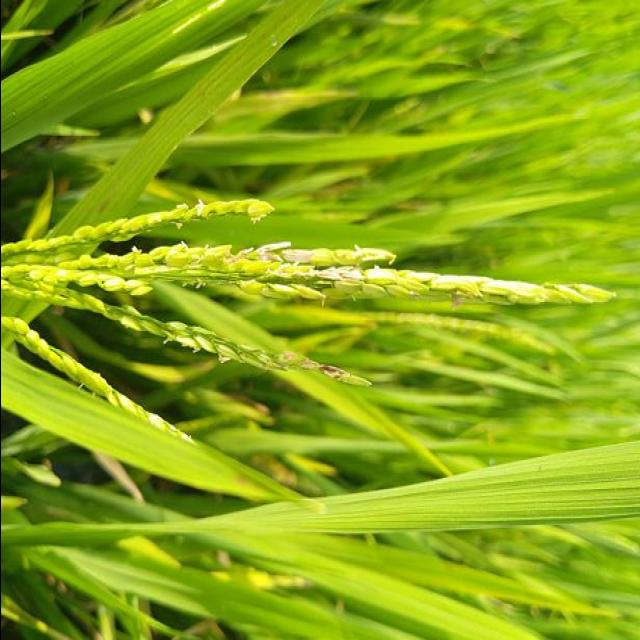Panicle Blight: (201, 241, 394, 298), (401, 272, 609, 305), (288, 357, 371, 385)
